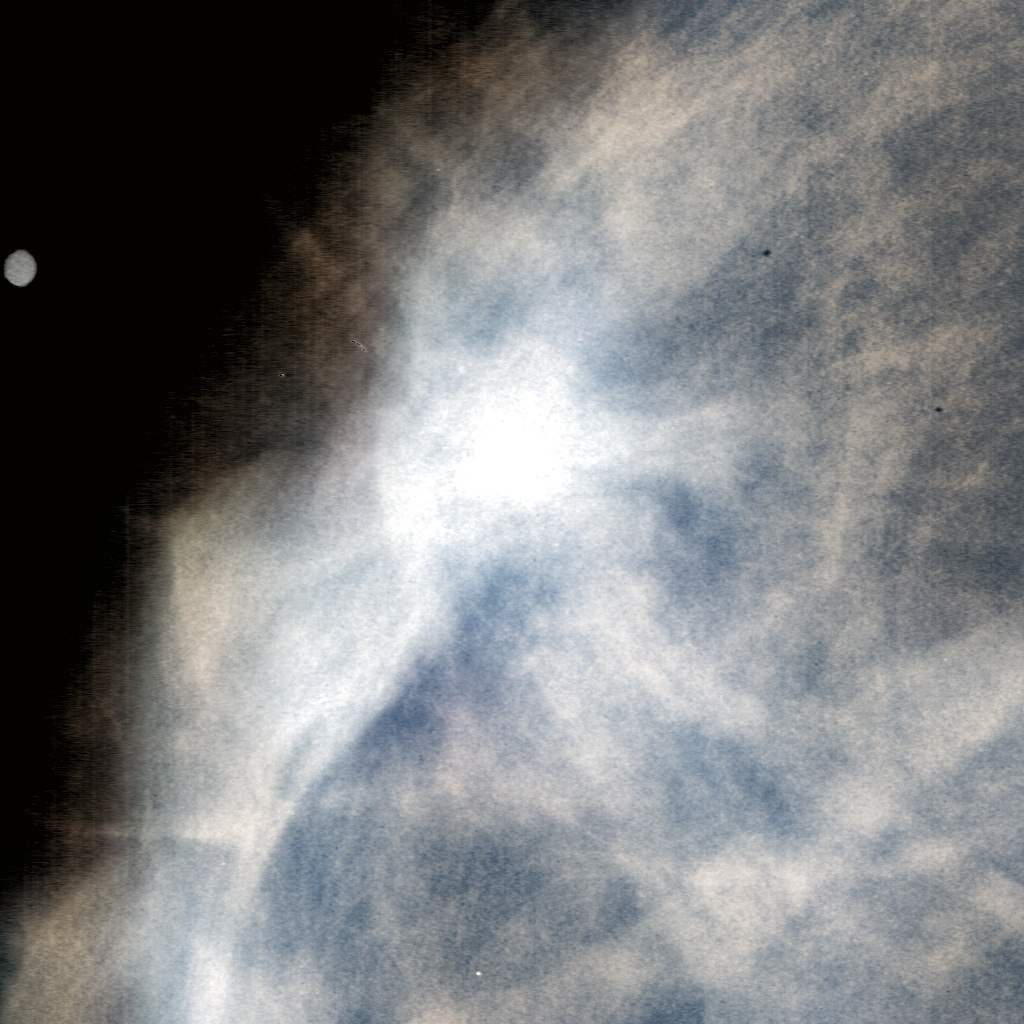tumor: (286, 294, 738, 730)
